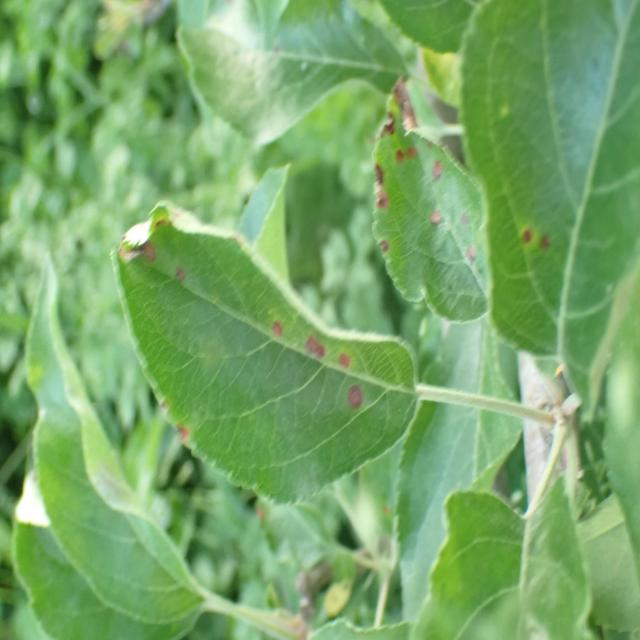Black Rot: (332, 54, 490, 308), (501, 197, 554, 271), (153, 377, 197, 462), (291, 305, 330, 380), (126, 218, 167, 278), (326, 327, 354, 378), (167, 254, 188, 296), (338, 382, 367, 410), (272, 312, 286, 358)
